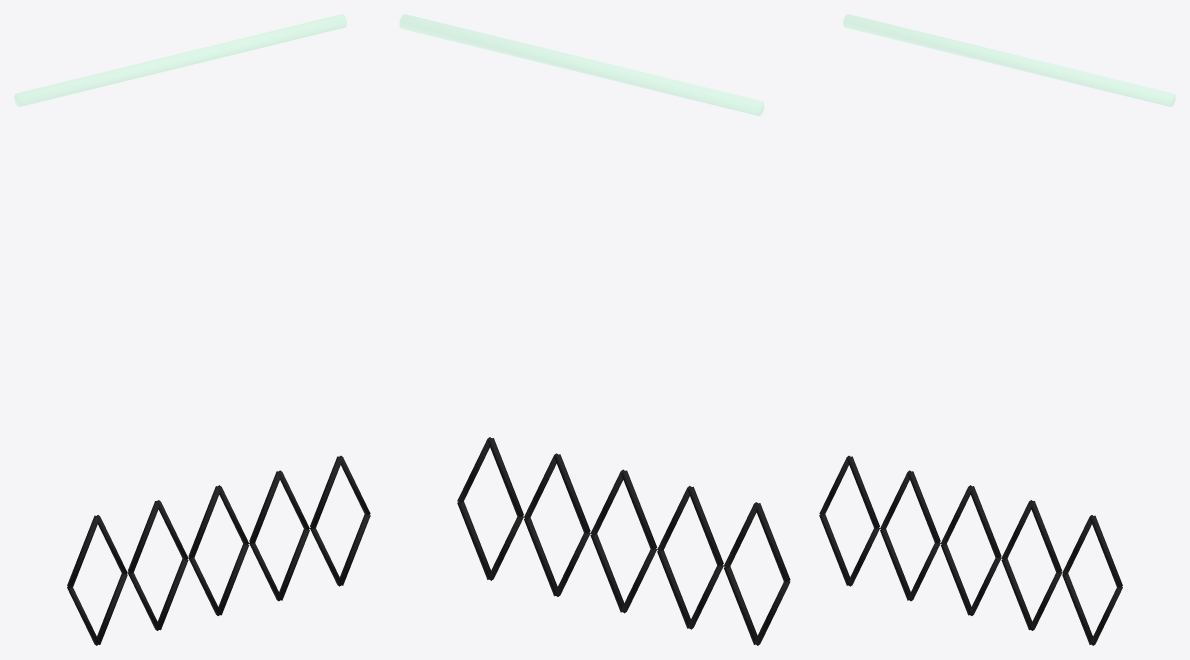
Rendered from room_night_props.glb.
The picture shows the model from 3 angles, left to right: view 1: azimuth 30°, elevation 25°; view 2: azimuth 150°, elevation 25°; view 3: azimuth 330°, elevation 25°; orthographic projection. The views are drawn at different scales.
Visible parts, largest first — view 1: prop_tube, prop_gatedia_4_0.34_1.14, prop_gatedia_0_-0.54_1.14, prop_gatedia_2_-0.10_1.14, prop_gatedia_1_-0.32_1.14, prop_gatedia_3_0.12_1.14; view 2: prop_tube, prop_gatedia_4_0.34_1.14, prop_gatedia_1_-0.32_1.14, prop_gatedia_3_0.12_1.14, prop_gatedia_2_-0.10_1.14, prop_gatedia_0_-0.54_1.14, prop_gatedia_3_0.22_0.92, prop_gatedia_4_0.44_0.92, prop_gatedia_0_-0.44_0.92, prop_gatedia_1_-0.22_0.92, prop_gatedia_2_0.00_0.92; view 3: prop_tube, prop_gatedia_0_-0.44_1.36, prop_gatedia_1_-0.22_1.36, prop_gatedia_4_0.44_1.36, prop_gatedia_3_0.22_1.36, prop_gatedia_2_0.00_1.36.
Boxes of the visible parts, x1=… form: prop_tube: x1=14, y1=14, x2=346, y2=106; prop_gatedia_4_0.34_1.14: x1=310, y1=456, x2=342, y2=528; prop_gatedia_0_-0.54_1.14: x1=67, y1=515, x2=99, y2=587; prop_gatedia_2_-0.10_1.14: x1=188, y1=486, x2=221, y2=558; prop_gatedia_1_-0.32_1.14: x1=128, y1=501, x2=158, y2=573; prop_gatedia_3_0.12_1.14: x1=249, y1=471, x2=280, y2=543; prop_tube: x1=399, y1=14, x2=764, y2=115; prop_gatedia_4_0.34_1.14: x1=488, y1=438, x2=523, y2=517; prop_gatedia_1_-0.32_1.14: x1=687, y1=486, x2=723, y2=566; prop_gatedia_3_0.12_1.14: x1=554, y1=454, x2=590, y2=533; prop_gatedia_2_-0.10_1.14: x1=621, y1=470, x2=657, y2=549; prop_gatedia_0_-0.54_1.14: x1=756, y1=503, x2=790, y2=582; prop_gatedia_3_0.22_0.92: x1=524, y1=517, x2=557, y2=596; prop_gatedia_4_0.44_0.92: x1=457, y1=501, x2=490, y2=579; prop_gatedia_0_-0.44_0.92: x1=724, y1=566, x2=757, y2=644; prop_gatedia_1_-0.22_0.92: x1=657, y1=550, x2=690, y2=628; prop_gatedia_2_0.00_0.92: x1=590, y1=534, x2=624, y2=612; prop_tube: x1=843, y1=14, x2=1175, y2=106; prop_gatedia_0_-0.44_1.36: x1=847, y1=456, x2=879, y2=528; prop_gatedia_1_-0.22_1.36: x1=908, y1=471, x2=940, y2=543; prop_gatedia_4_0.44_1.36: x1=1090, y1=515, x2=1122, y2=587; prop_gatedia_3_0.22_1.36: x1=1029, y1=501, x2=1061, y2=573; prop_gatedia_2_0.00_1.36: x1=970, y1=486, x2=1001, y2=558.
Size of the model in its own units: 1.18 by 1.84 by 0.269.
